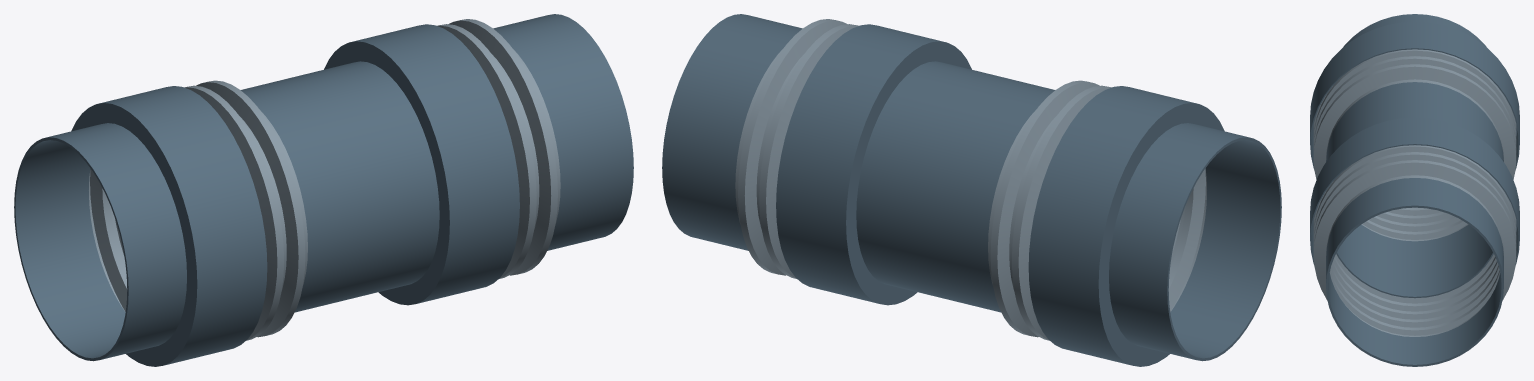
The model's file is 2silf-dn600-L1604-D630-k-o820.glb.
The picture shows the model from 3 angles, left to right: view 1: azimuth 30°, elevation 25°; view 2: azimuth 150°, elevation 25°; view 3: azimuth 270°, elevation 25°; orthographic projection. The views are drawn at different scales.
Visible parts, largest first — view 1: patrubok_1, osnovanie_kozhuh_1, osnovanie_kozhuh_2, patrubok_2, patrubok_4, patrubok_3, prokladka_silfon_1, prokladka_silfon_2; view 2: patrubok_1, osnovanie_kozhuh_1, osnovanie_kozhuh_2, patrubok_2, patrubok_4, patrubok_3, prokladka_silfon_1, prokladka_silfon_2; view 3: prokladka_silfon_2, patrubok_4, prokladka_silfon_1, patrubok_2, osnovanie_kozhuh_2, osnovanie_kozhuh_1, patrubok_3, patrubok_1.
Part boxes in pixels (left/top/right/bottom): patrubok_1: left=14, top=123, right=186, bottom=361; osnovanie_kozhuh_1: left=71, top=86, right=267, bottom=366; osnovanie_kozhuh_2: left=324, top=24, right=519, bottom=305; patrubok_2: left=241, top=75, right=381, bottom=312; patrubok_4: left=493, top=14, right=633, bottom=250; patrubok_3: left=298, top=61, right=439, bottom=298; prokladka_silfon_1: left=89, top=80, right=307, bottom=340; prokladka_silfon_2: left=437, top=19, right=560, bottom=278; patrubok_1: left=1109, top=123, right=1281, bottom=361; osnovanie_kozhuh_1: left=1028, top=86, right=1224, bottom=366; osnovanie_kozhuh_2: left=776, top=24, right=971, bottom=305; patrubok_2: left=914, top=75, right=1054, bottom=312; patrubok_4: left=662, top=14, right=802, bottom=250; patrubok_3: left=856, top=61, right=997, bottom=298; prokladka_silfon_1: left=988, top=80, right=1206, bottom=340; prokladka_silfon_2: left=735, top=19, right=858, bottom=278; prokladka_silfon_2: left=1313, top=145, right=1516, bottom=336; patrubok_4: left=1326, top=178, right=1503, bottom=366; prokladka_silfon_1: left=1313, top=49, right=1516, bottom=241; patrubok_2: left=1326, top=82, right=1503, bottom=268; osnovanie_kozhuh_2: left=1310, top=117, right=1519, bottom=264; osnovanie_kozhuh_1: left=1310, top=21, right=1519, bottom=169; patrubok_3: left=1336, top=110, right=1493, bottom=298; patrubok_1: left=1343, top=14, right=1486, bottom=47.
Size of the model in its own units: 1604 by 743 by 743.
